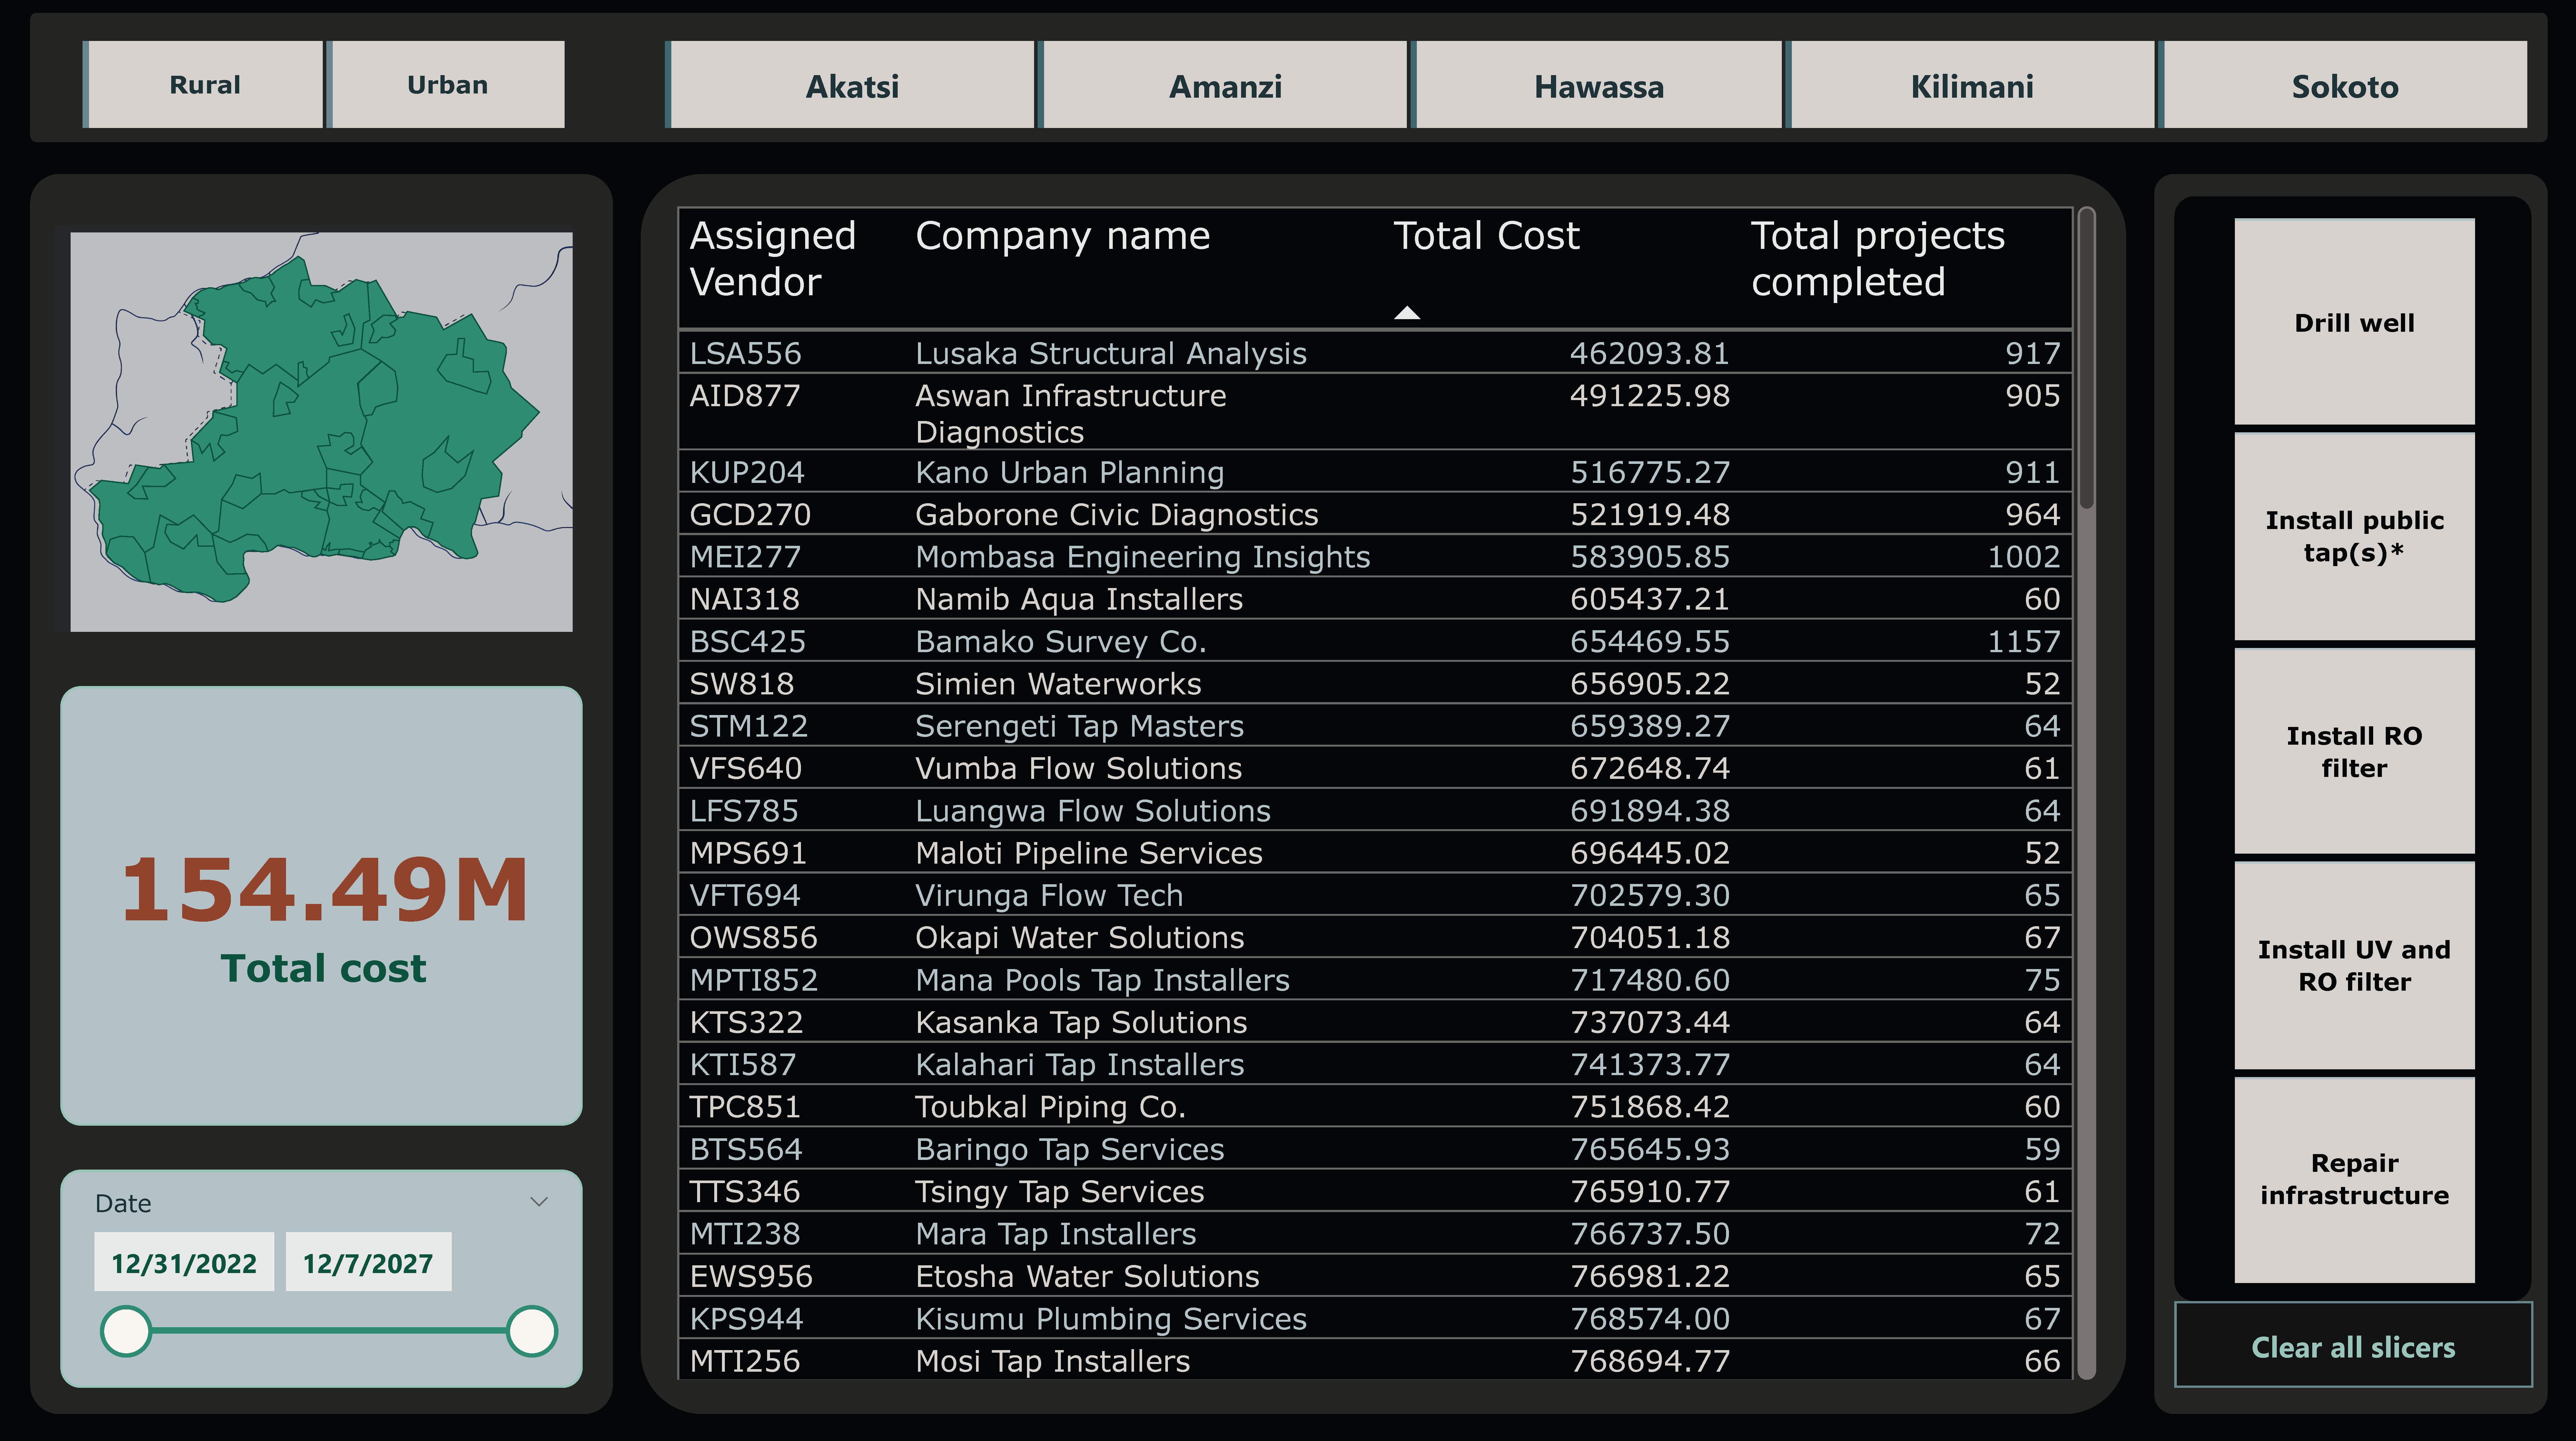

What the dashboard file says about the page in this screenshot:
{"tool":"powerbi","page":{"name":"Vendors","canvas":[1280,720],"ordinal":2},"visuals":[{"type":"shape","box":[16.2,8.8,1248.8,63.8],"z":0},{"type":"shape","box":[16.2,88.8,288.8,615],"z":1000},{"type":"shape","box":[318.8,88.8,737.5,615],"z":2000},{"type":"shape","box":[1070,88.8,195,615],"z":3000},{"type":"image","box":[31.2,112.5,258.8,208.8],"z":4000},{"type":"tableEx","title":"Total cost by vendors","fields":{"Values":["project_progress.assigned_vendor","vendors.company_name","Sum(project_progress.cost)","project_progress.Number_completed_projects"]},"box":[330.7,100.2,714.9,591.4],"z":5000},{"type":"slicer","fields":{"Values":["location.province_name"]},"box":[305,16.2,973.8,56.2],"z":6000},{"type":"slicer","fields":{"Values":["project_progress.Aggregated_improvements"]},"box":[1080,100,177.5,547.5],"z":7000},{"type":"slicer","fields":{"Values":["location.location_type"]},"box":[16.2,16.2,288.8,56.2],"z":8000},{"type":"actionButton","box":[1080,647.5,177.5,43.8],"z":9000},{"type":"shapeMap","title":"Country by province","fields":{"Category":["location.town_name"],"Value":["project_progress.pct_project_complete"]},"box":[27.5,115,258.8,201.2],"z":10000},{"type":"card","fields":{"Values":["Sum(project_progress.cost)"]},"box":[31.2,342.5,258.8,218.8],"z":11000},{"type":"slicer","fields":{"Values":["project_progress.date_of_completion"]},"box":[31.2,582.5,258.8,108.8],"z":12000}]}

Visuals, with their boxes in screenshot pixels (x1, y1, x2, y2), scaled from the page's 1280x720 canvas onto the 2576x1441 screenshot:
shape: [33, 18, 2546, 145]
shape: [33, 178, 614, 1408]
shape: [642, 178, 2126, 1408]
shape: [2153, 178, 2546, 1408]
image: [63, 225, 584, 643]
"Total cost by vendors" tableEx: [666, 201, 2104, 1384]
slicer - location.province_name: [614, 33, 2574, 145]
slicer - project_progress.Aggregated_improvements: [2174, 200, 2531, 1296]
slicer - location.location_type: [33, 33, 614, 145]
actionButton: [2174, 1296, 2531, 1384]
"Country by province" shapeMap: [55, 230, 576, 633]
card - Sum(project_progress.cost): [63, 685, 584, 1123]
slicer - project_progress.date_of_completion: [63, 1166, 584, 1384]
